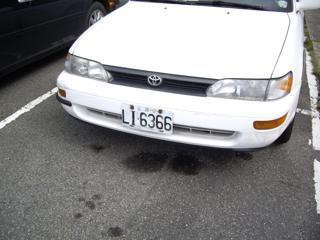plate: (117, 101, 174, 138)
